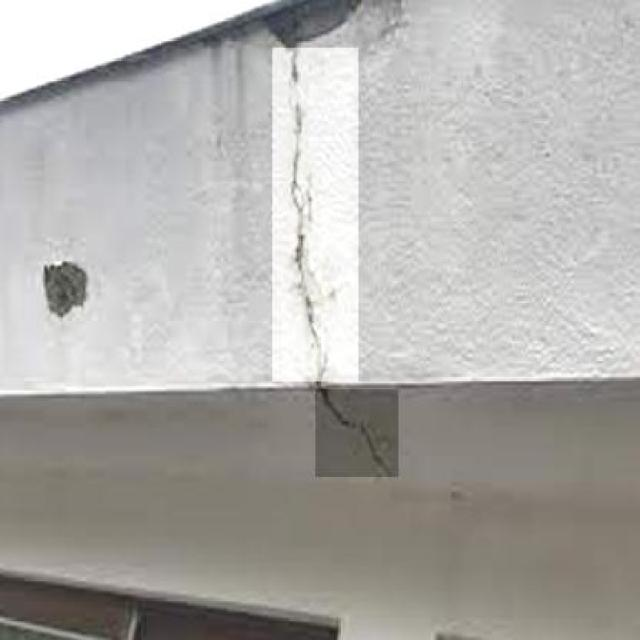Crack: (279, 50, 346, 382), (314, 400, 392, 478)
